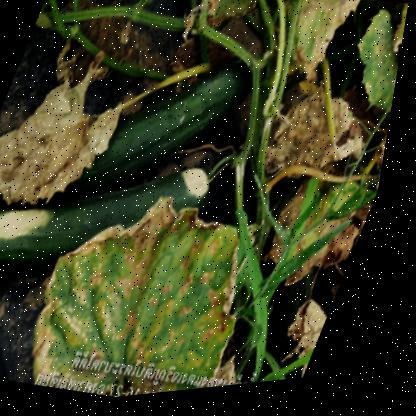DownyMildew: (35, 200, 252, 383)
